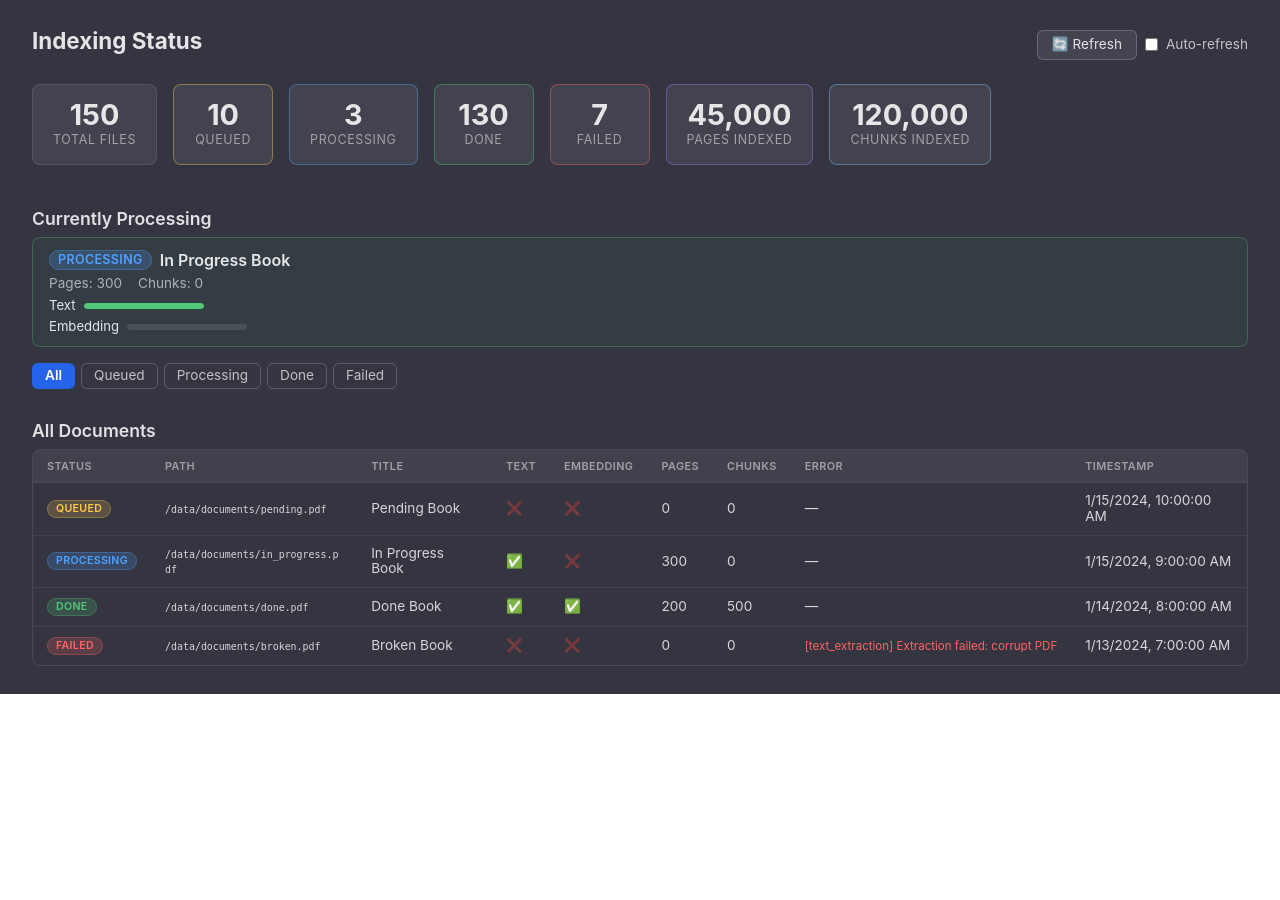
it: AdminIndexingStatusPage › filters documents by status when filter button is clicked
expect the text "/data/documents/pending.pdf" is shown: met, box [165, 504, 326, 515]
Click the button "Failed" at (365, 376), box [333, 363, 397, 389]
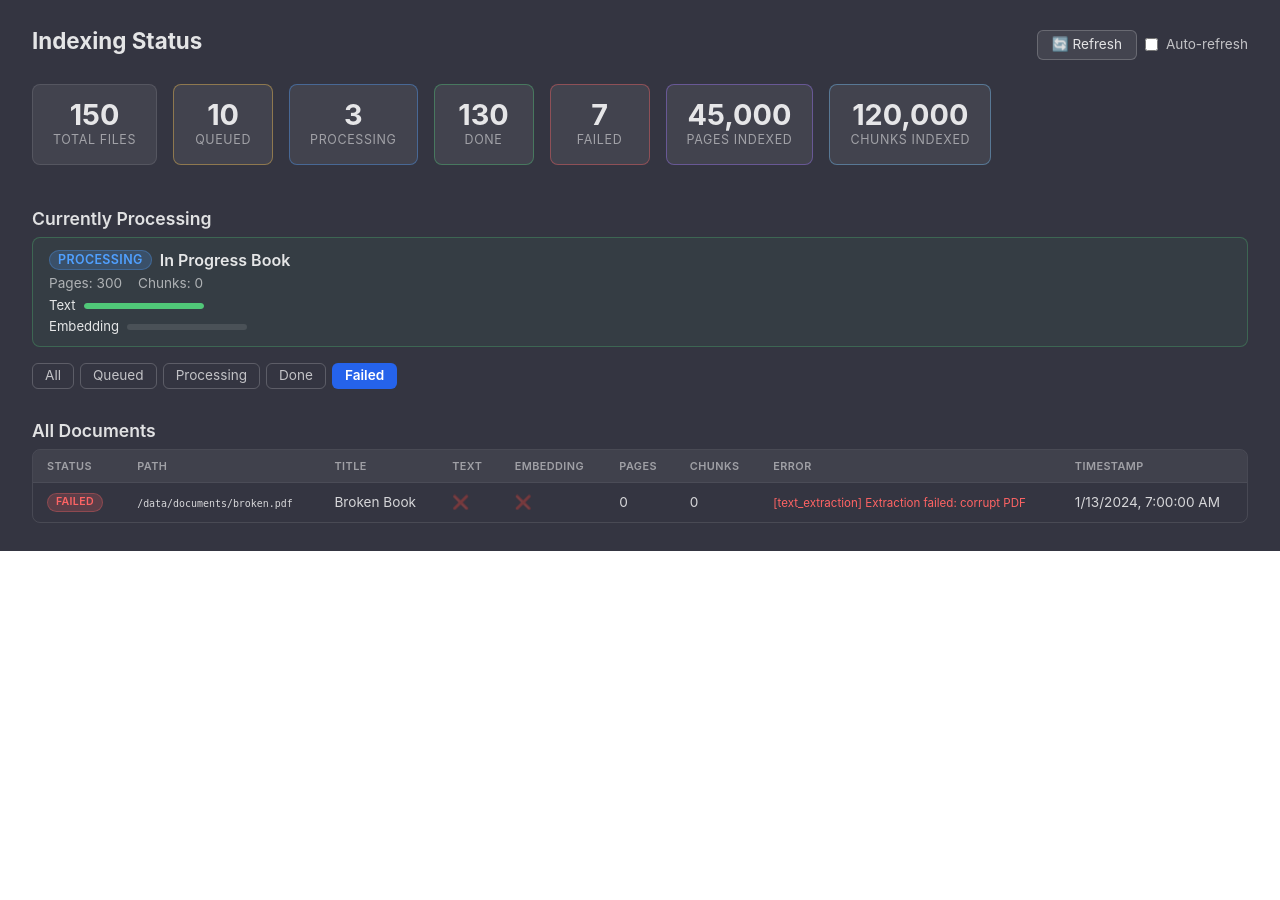
expect the text "/data/documents/broken.pdf" is shown: met, box [137, 498, 293, 509]
expect the text "/data/documents/pending.pdf" is gone: met
expect the text "/data/documents/done.pdf" is gone: met
